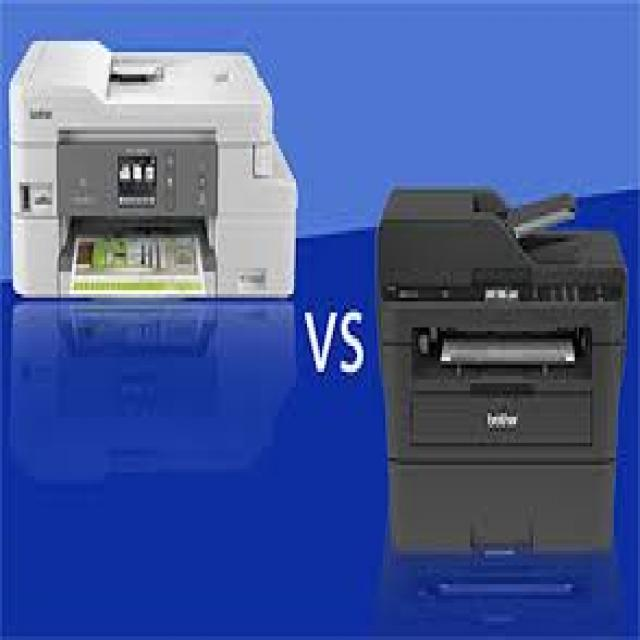printer: (358, 161, 632, 629), (0, 24, 300, 367)
